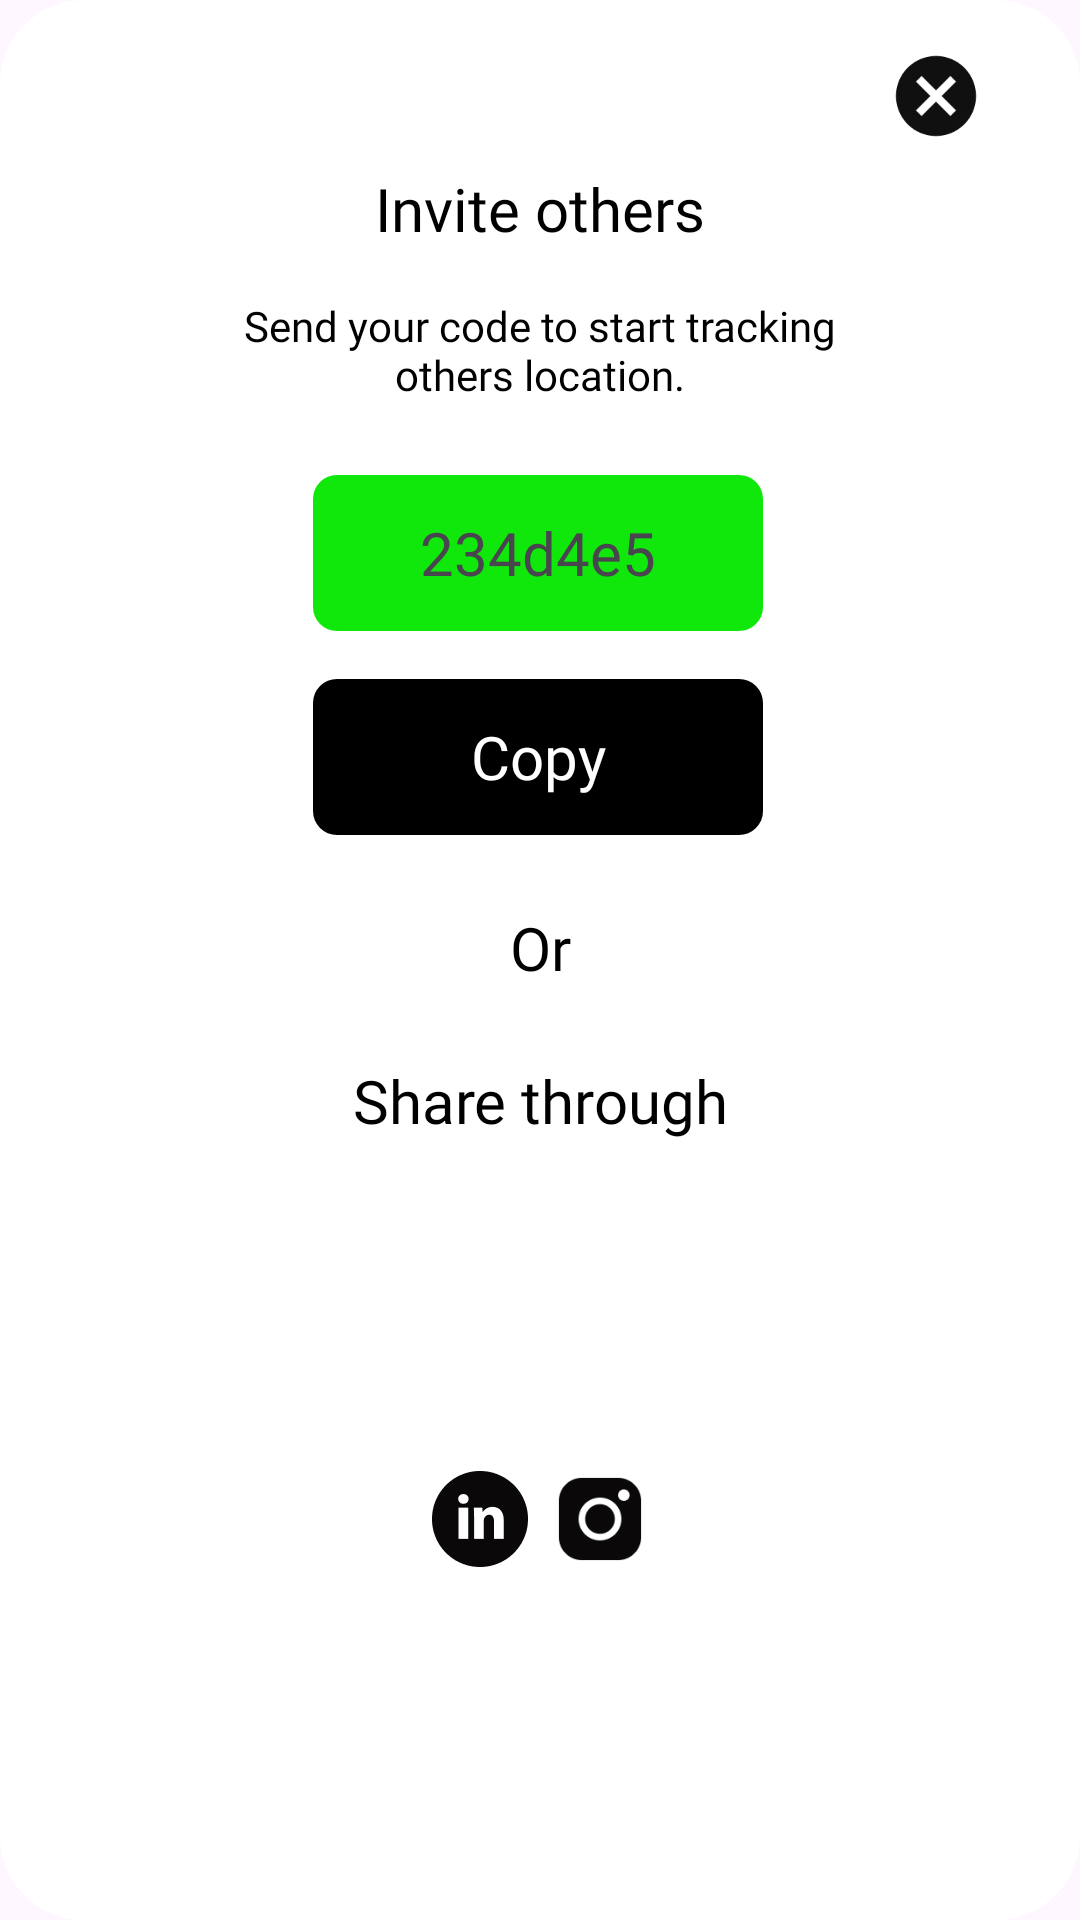

Named icons in this screenshot (1080 x 1920) and their centers, [x,y]:
cross: [936,96]
